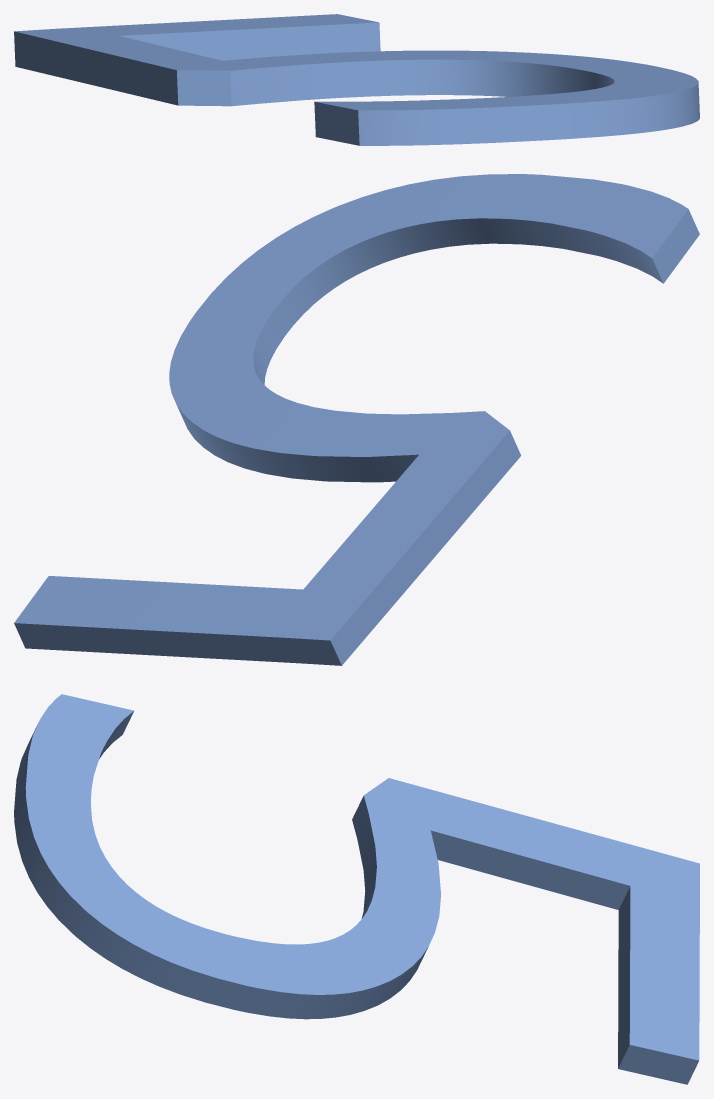
File: New_Number_5.gltf
3 views of the same model, one above another, from view 1: azimuth 30°, elevation 25°; view 2: azimuth 150°, elevation 25°; view 3: azimuth 270°, elevation 25° (orthographic). The views are drawn at different scales.
Parts seen in each view (by area): view 1: Part 653; view 2: Part 653; view 3: Part 653.
Boxes of the visible parts, x1,y1,x2,y2 form: Part 653: (14, 14, 699, 145); Part 653: (14, 174, 699, 665); Part 653: (14, 694, 699, 1084).
Bounding box in the file's own units: 0.0034 × 0.00218 × 0.00549.
